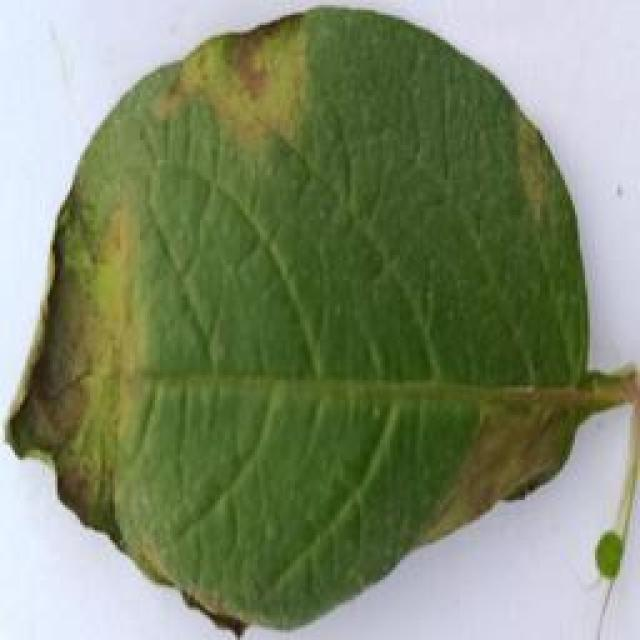Potato_Late_Blight: (8, 18, 590, 633)
